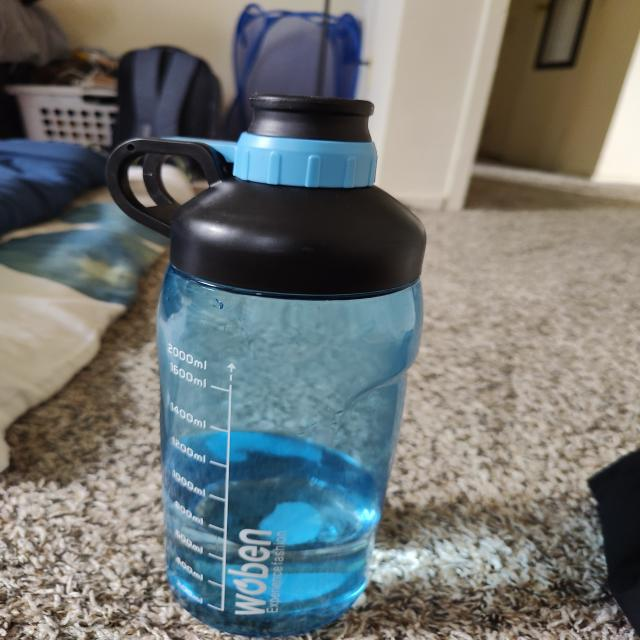bottle: (103, 80, 421, 636)
